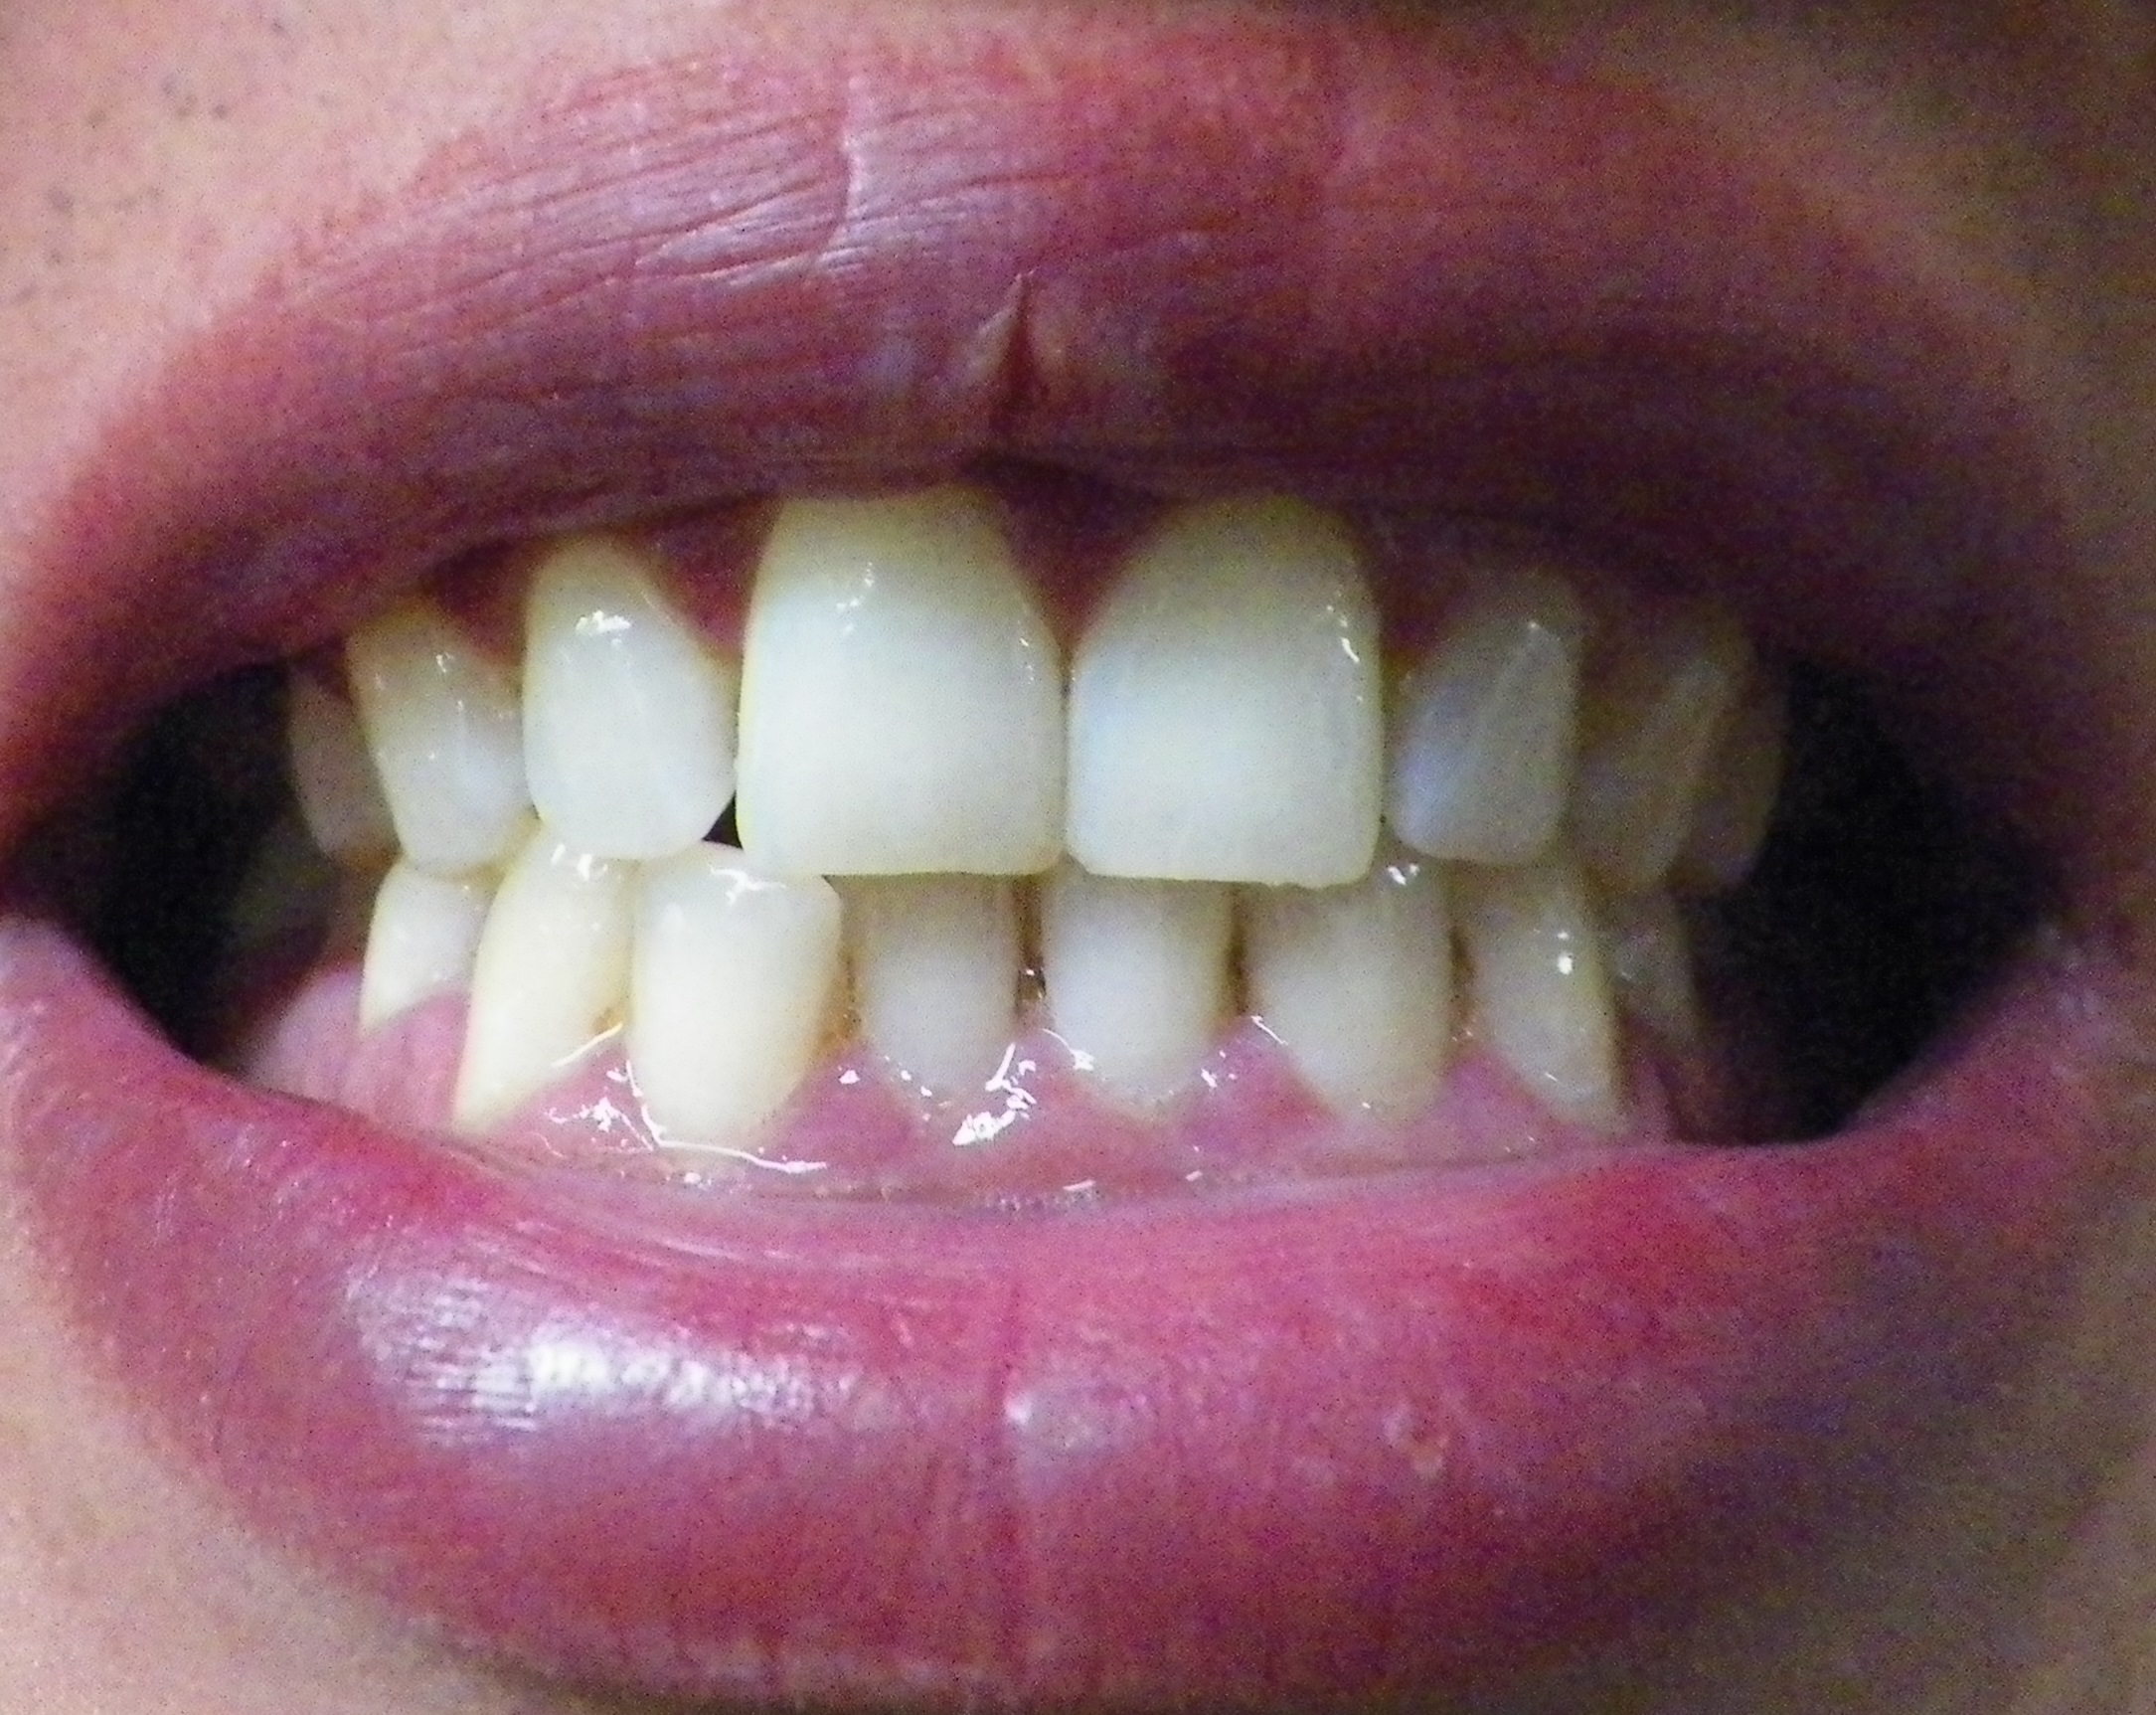boca: (280, 486, 1799, 1155)
